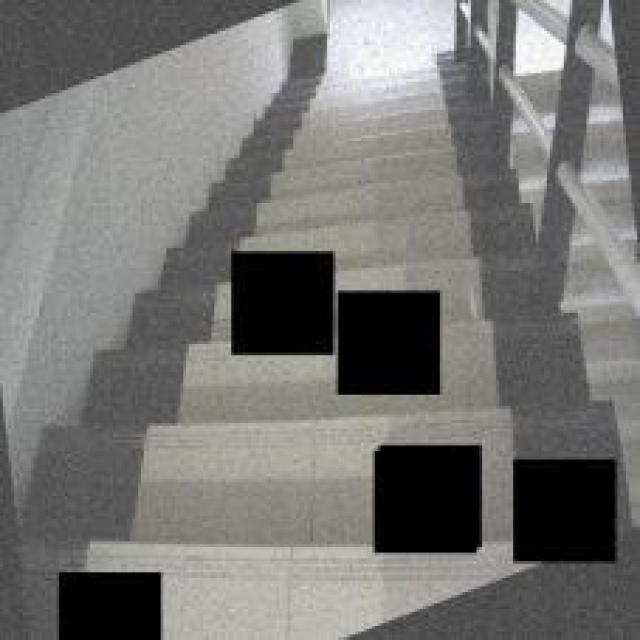downstair: (244, 86, 497, 241)
